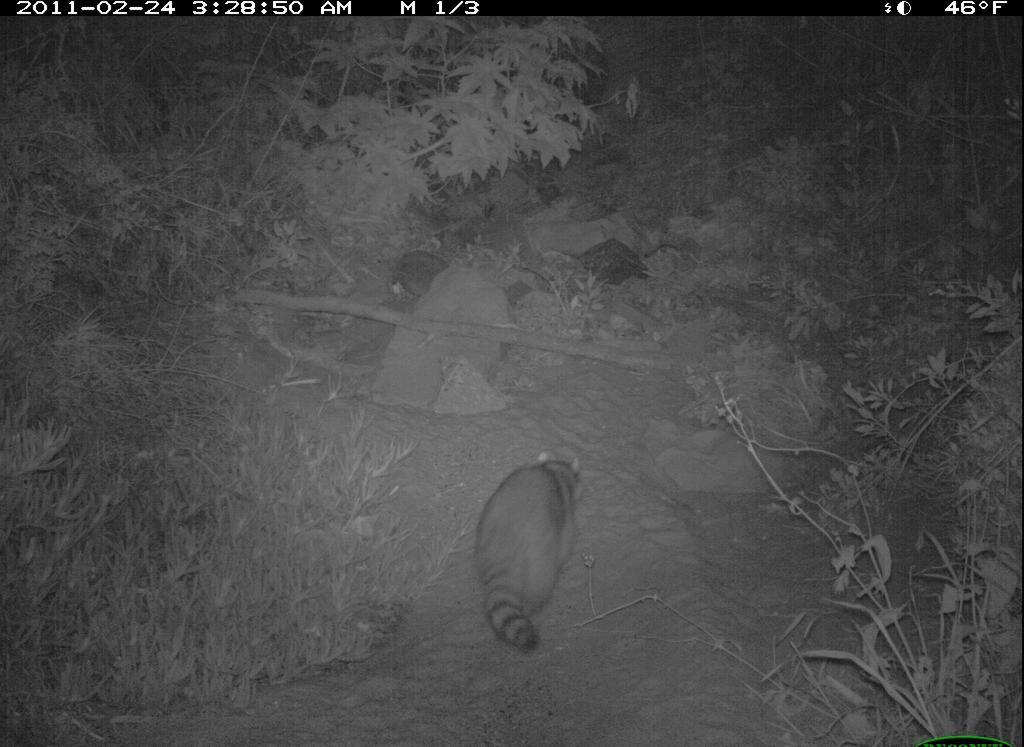raccoon: (468, 446, 594, 657)
